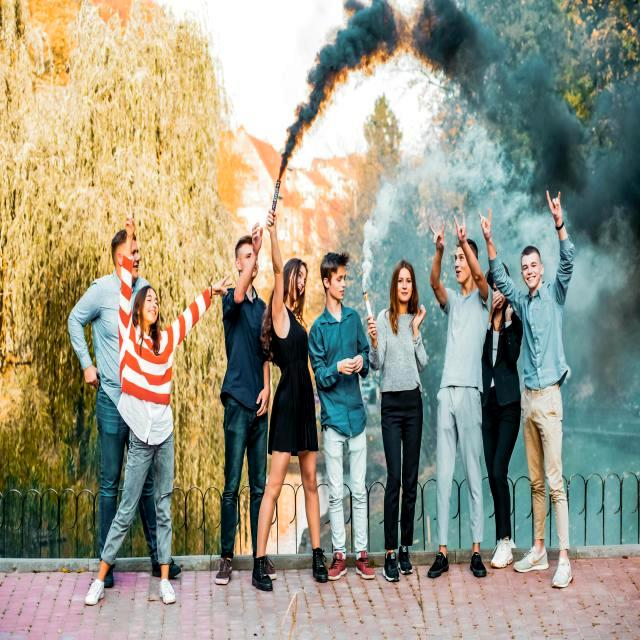no_head_wear: (321, 251, 350, 277), (391, 259, 416, 288), (485, 258, 509, 284), (284, 258, 308, 282), (135, 285, 159, 304), (234, 235, 252, 259), (111, 229, 127, 253), (521, 245, 540, 260), (467, 238, 479, 256)
person: (504, 193, 574, 588), (253, 215, 319, 590), (68, 218, 139, 551), (118, 285, 186, 604), (309, 252, 375, 580), (430, 218, 492, 558), (216, 223, 269, 584), (368, 260, 427, 581), (481, 296, 522, 554), (138, 461, 161, 577)
